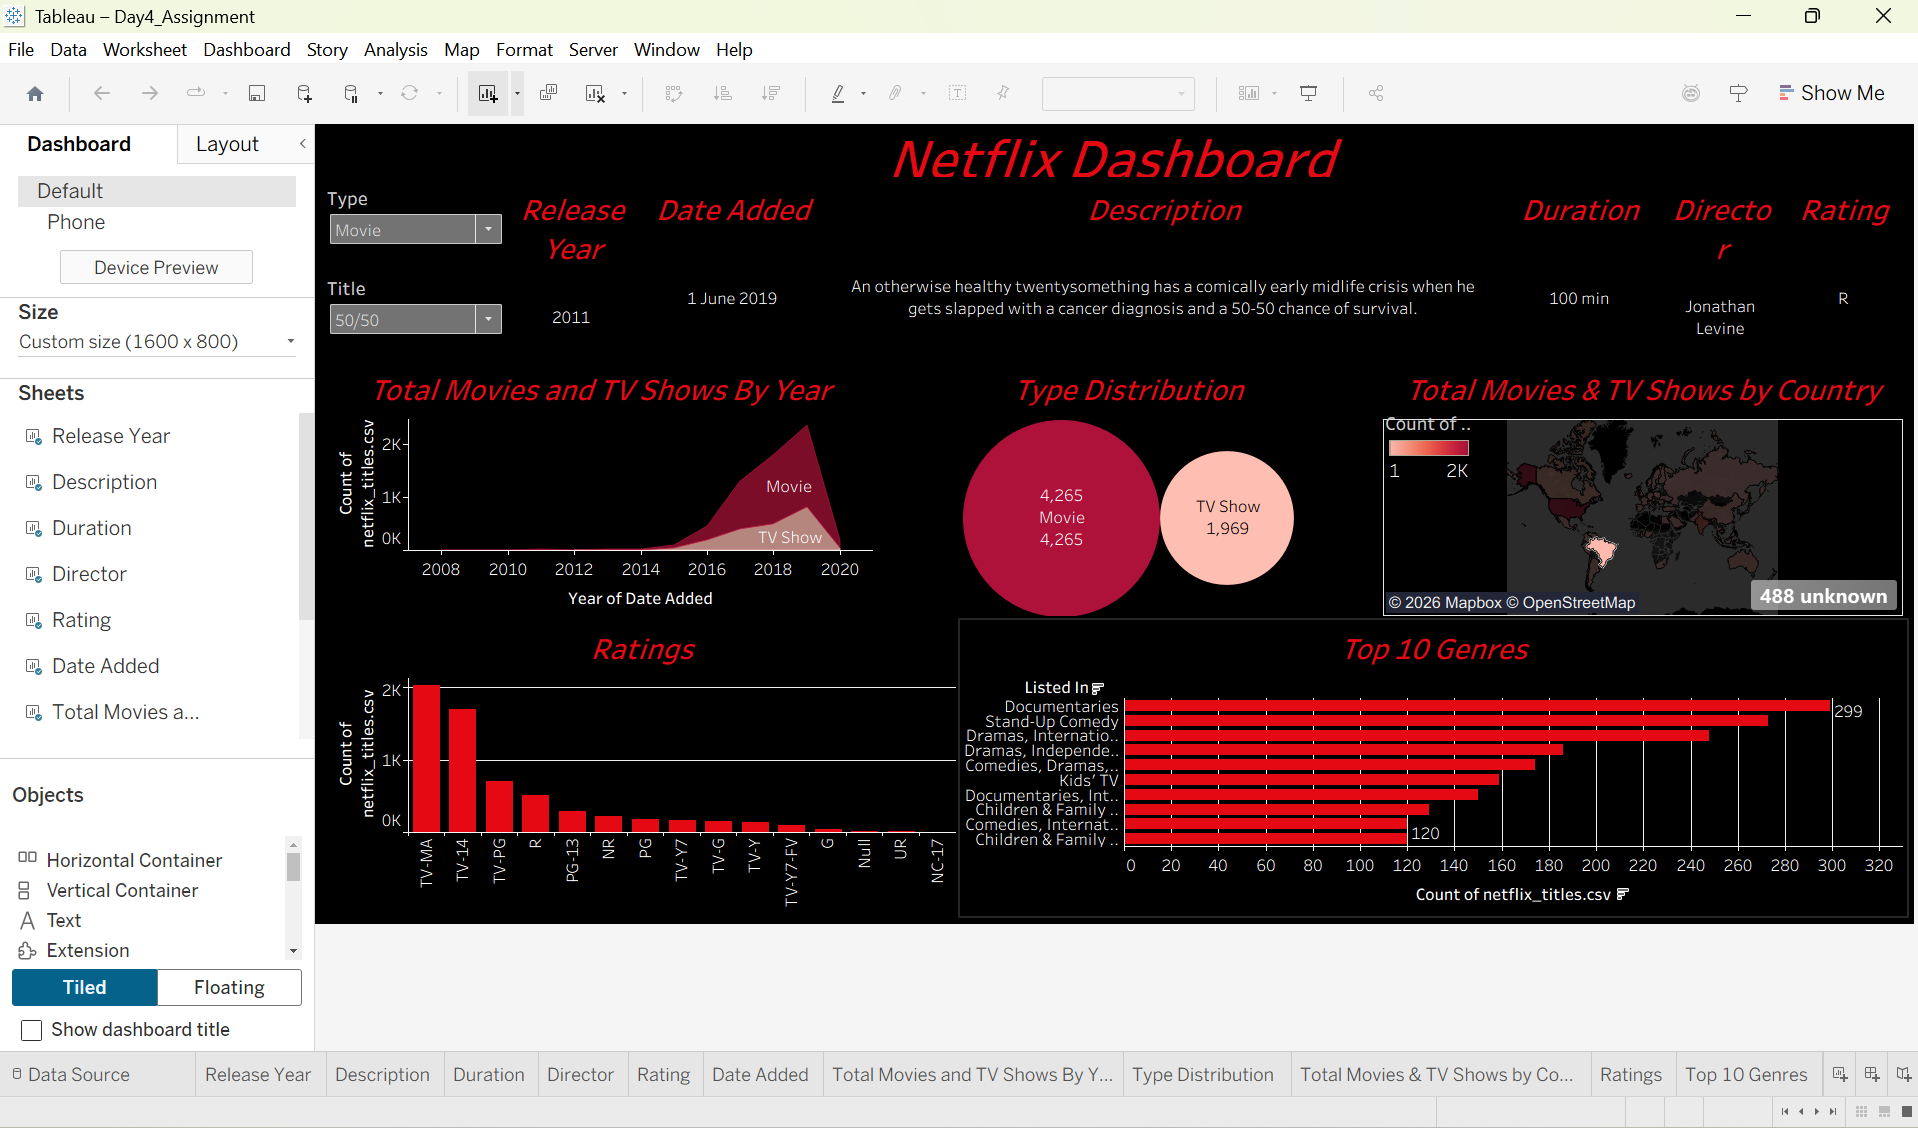

What the dashboard file says about the page in this screenshot:
{"tool":"tableau","page":{"name":"Dashboard","canvas":[1600,800],"ordinal":0},"visuals":[{"type":"text","box":[8,8,1584,49.2]},{"type":"filter","title":"Release Year","param":"[federated.0fsw0xx1qbgbz116vqlku0uwiuc5].[none:type:nk]","box":[8,57.2,186,90]},{"type":"worksheet","title":"Release Year","mark":"Text","box":[194,57.2,126,179.7]},{"type":"worksheet","title":"Date Added","mark":"Text","box":[320,57.2,195,179.7]},{"type":"worksheet","title":"Description","mark":"Text","box":[515,57.2,667,179.7]},{"type":"worksheet","title":"Duration","mark":"Text","box":[1182,57.2,165,179.7]},{"type":"worksheet","title":"Director","mark":"Text","box":[1347,57.2,118,179.7]},{"type":"worksheet","title":"Rating","mark":"Text","box":[1465,57.2,127,179.7]},{"type":"filter","title":"Release Year","param":"[federated.0fsw0xx1qbgbz116vqlku0uwiuc5].[none:title:nk]","box":[8,147.2,186,73.1]},{"type":"worksheet","title":"Total Movies and TV Shows By Year","mark":"Area","rows":["netflix_titles.csv_85D14260E4684E36BD142FC0C9C6FFCB"],"cols":["date_added"],"box":[8,236.8,554,259]},{"type":"worksheet","title":"Type Distribution","mark":"Circle","box":[562,236.8,502,259]},{"type":"worksheet","title":"Total Movies & TV Shows by Country","mark":"Automatic","box":[1064,236.8,528,259]},{"type":"legend","title":"Total Movies & TV Shows by Country","param":"[federated.0fsw0xx1qbgbz116vqlku0uwiuc5].[__tableau_internal_object_id__].[cnt:n","box":[1070,286.2,88,88.9]},{"type":"worksheet","title":"Ratings","mark":"Automatic","rows":["netflix_titles.csv_85D14260E4684E36BD142FC0C9C6FFCB"],"cols":["rating"],"box":[8,495.8,637,296.2]},{"type":"worksheet","title":"Top 10 Genres","mark":"Automatic","rows":["listed_in"],"cols":["netflix_titles.csv_85D14260E4684E36BD142FC0C9C6FFCB"],"box":[645,495.8,947,296.2]}]}

Visuals, with their boxes on the page's 1600x800 design canvas (x1, y1, x2, y2). These are canvas units, not pixel positions in the 1918x1128 screenshot, which may show the page scaled, cropped or inside an application window:
text: [left=8, top=8, right=1592, bottom=57]
"Release Year" filter: [left=8, top=57, right=194, bottom=147]
"Release Year" worksheet (Text marks): [left=194, top=57, right=320, bottom=237]
"Date Added" worksheet (Text marks): [left=320, top=57, right=515, bottom=237]
"Description" worksheet (Text marks): [left=515, top=57, right=1182, bottom=237]
"Duration" worksheet (Text marks): [left=1182, top=57, right=1347, bottom=237]
"Director" worksheet (Text marks): [left=1347, top=57, right=1465, bottom=237]
"Rating" worksheet (Text marks): [left=1465, top=57, right=1592, bottom=237]
"Release Year" filter: [left=8, top=147, right=194, bottom=220]
"Total Movies and TV Shows By Year" worksheet (Area marks): [left=8, top=237, right=562, bottom=496]
"Type Distribution" worksheet (Circle marks): [left=562, top=237, right=1064, bottom=496]
"Total Movies & TV Shows by Country" worksheet: [left=1064, top=237, right=1592, bottom=496]
"Total Movies & TV Shows by Country" legend: [left=1070, top=286, right=1158, bottom=375]
"Ratings" worksheet: [left=8, top=496, right=645, bottom=792]
"Top 10 Genres" worksheet: [left=645, top=496, right=1592, bottom=792]
